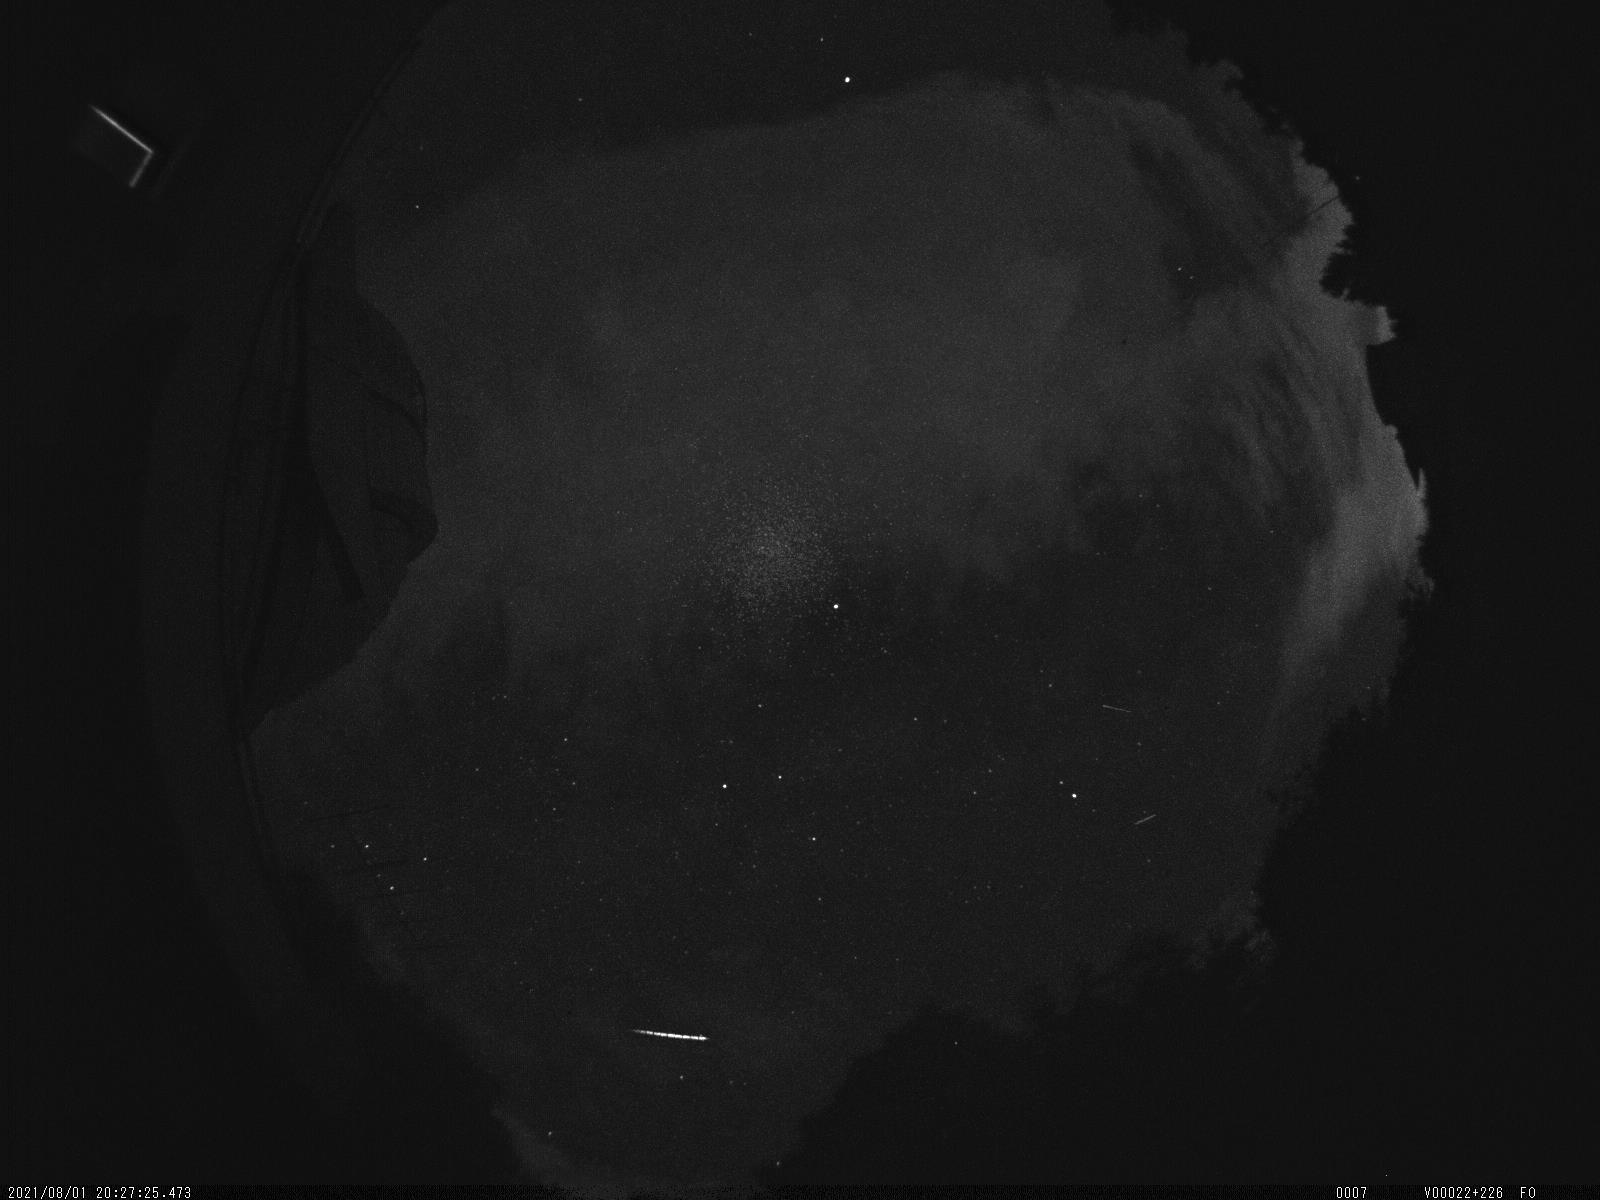Meteor: (627, 1022, 717, 1054)
